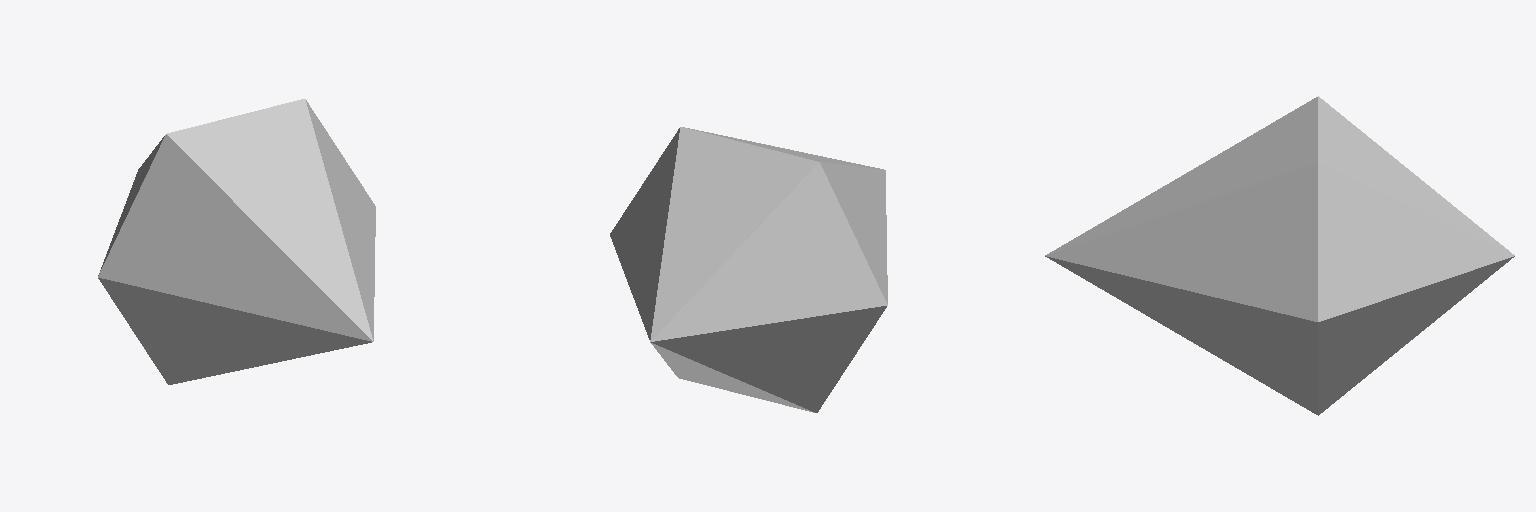
Rendered from top-checkpoint.obj.
3 renders of one model, left to right at view 1: azimuth 30°, elevation 25°; view 2: azimuth 150°, elevation 25°; view 3: azimuth 270°, elevation 25°, orthographic.
Visible parts, largest first — view 1: Object.1; view 2: Object.1; view 3: Object.1.
Part boxes in pixels (bbox=[...]): Object.1: bbox=[98, 99, 375, 384]; Object.1: bbox=[610, 127, 887, 412]; Object.1: bbox=[1045, 96, 1514, 415].
Bounding box in the file's own units: 29339 × 25554 × 43000.